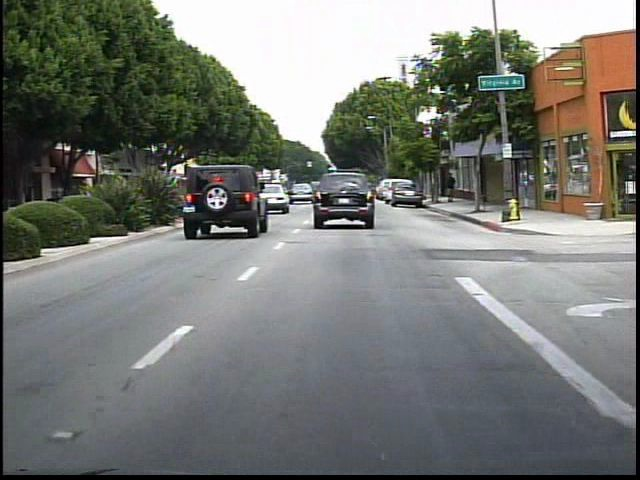person: (440, 169, 460, 205)
